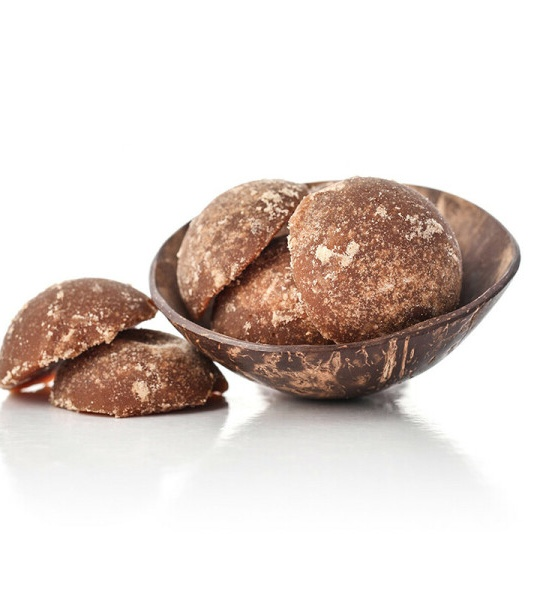hakuru: (287, 175, 464, 335), (174, 170, 308, 321), (2, 277, 158, 393), (44, 329, 232, 414)
